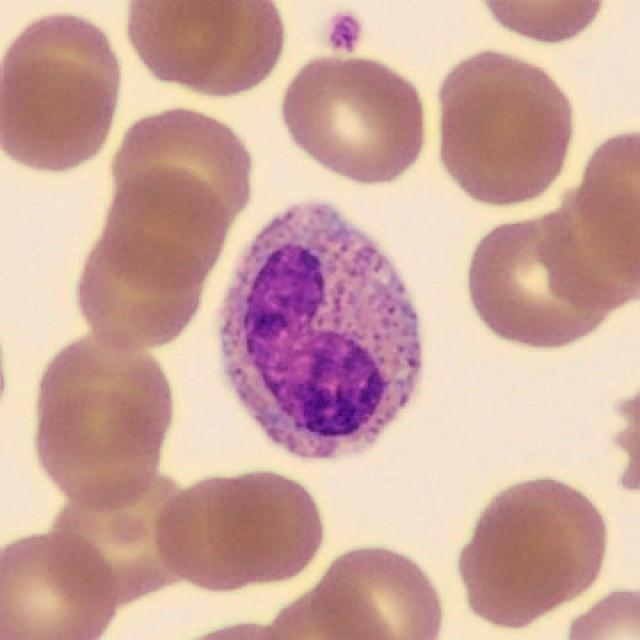Metamielocito: (220, 204, 423, 460)
